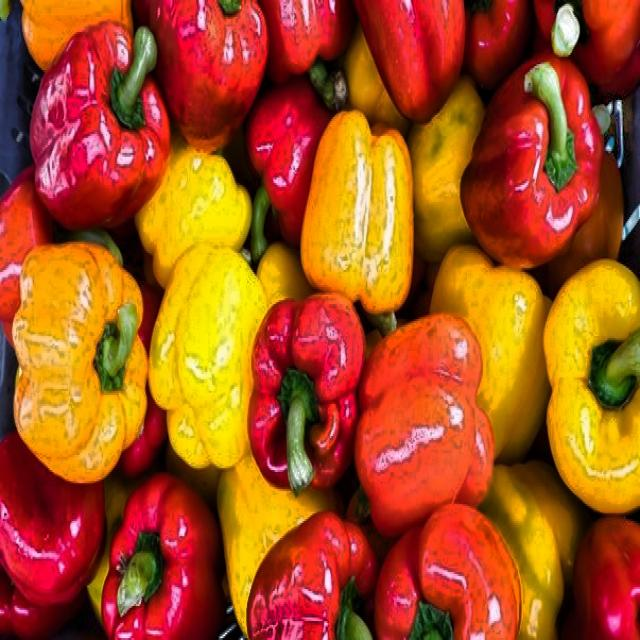capsicum: (236, 278, 367, 520), (20, 29, 171, 231)
